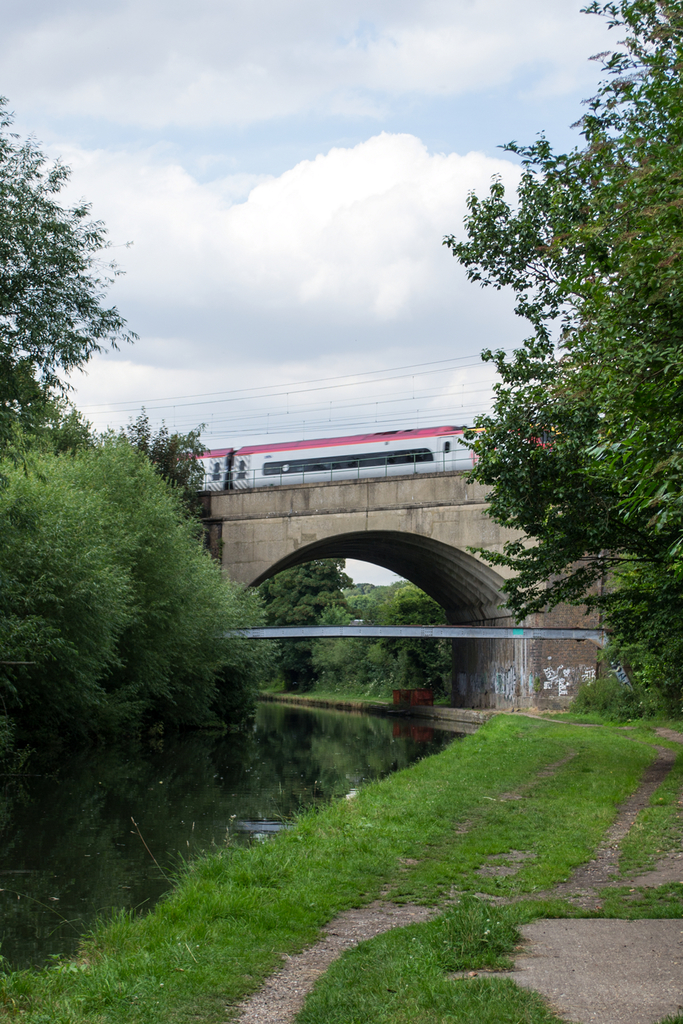Tree: (431, 0, 682, 735), (0, 406, 269, 807), (9, 125, 126, 481), (244, 551, 444, 714)
